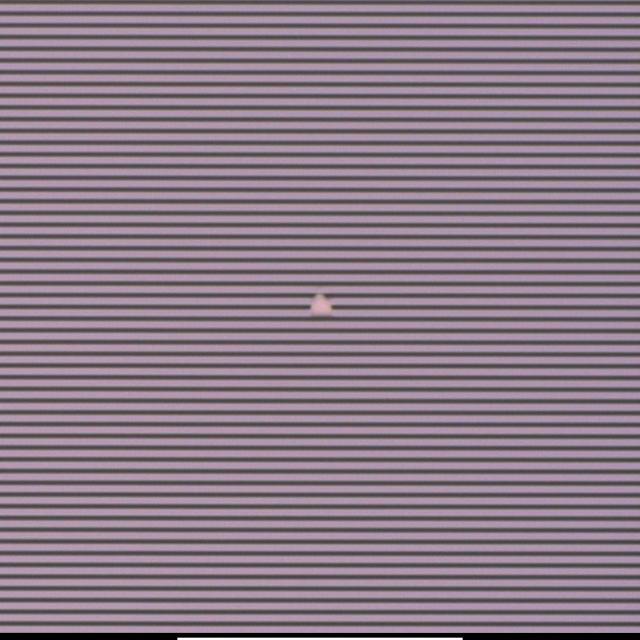03_intrusion: (308, 292, 332, 321)
